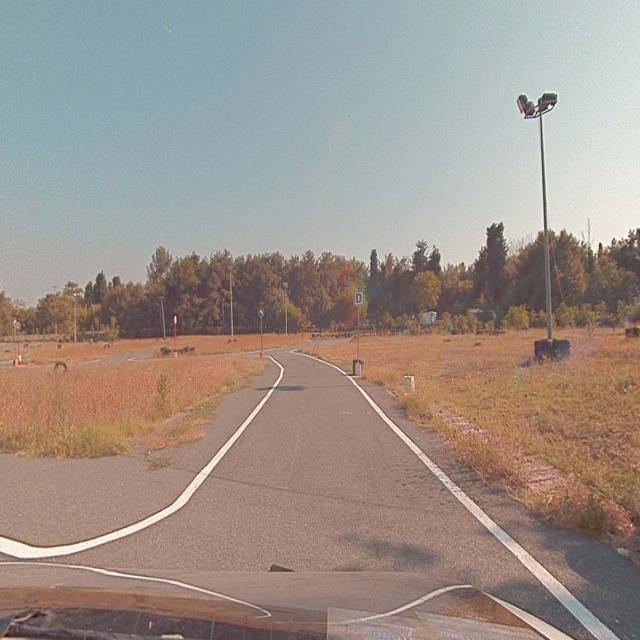durak: (354, 290, 364, 306)
sol: (258, 307, 264, 316)
